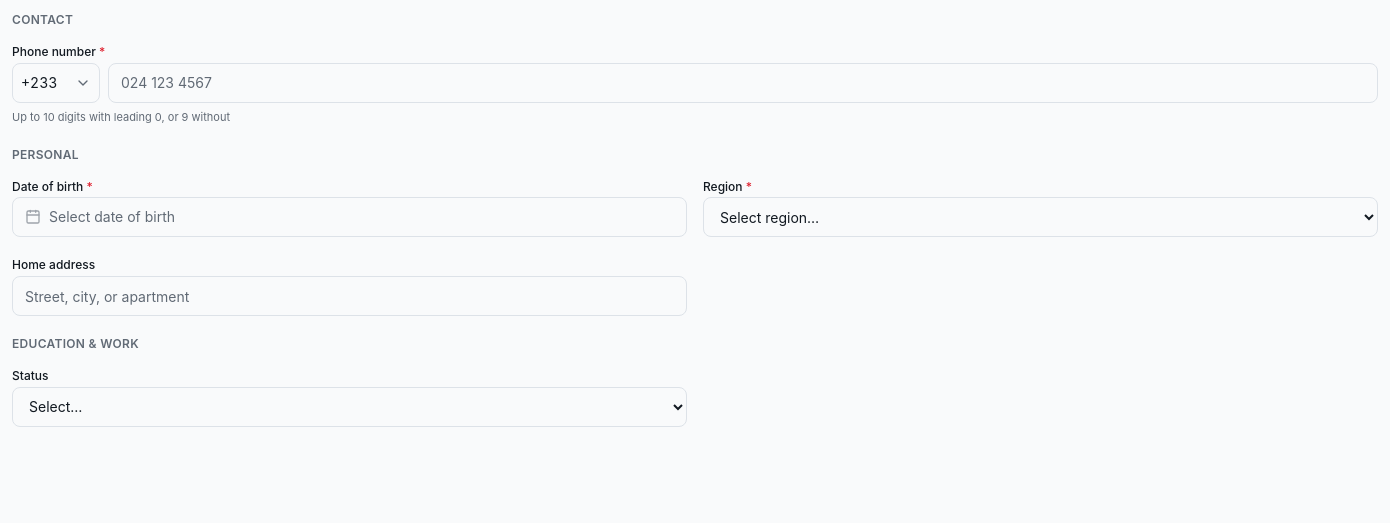
Scenario: MemberProfileFields › shows school and workplace when status is student and working
The width and height of the screenshot is (1390, 523).
Select "Student & working" in the dropdown labelled "Status". click: (350, 407)
box: [12,387,687,427]
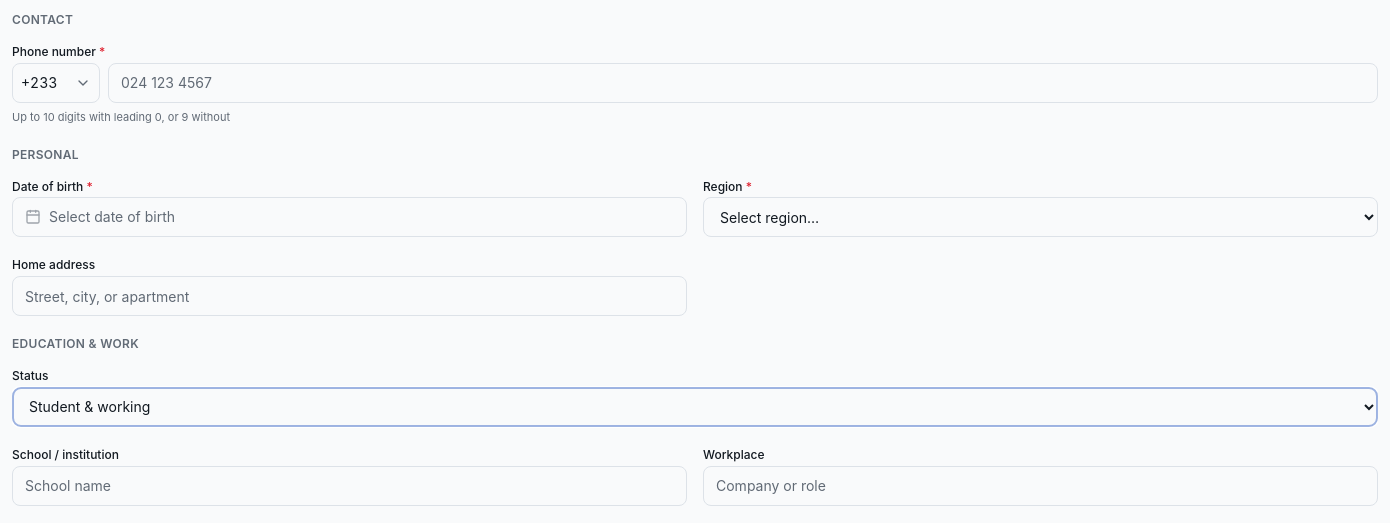
expect the field labelled "School / institution" is shown: met, box [12,466,687,506]
expect the field labelled "Workplace" is shown: met, box [703,466,1378,506]
